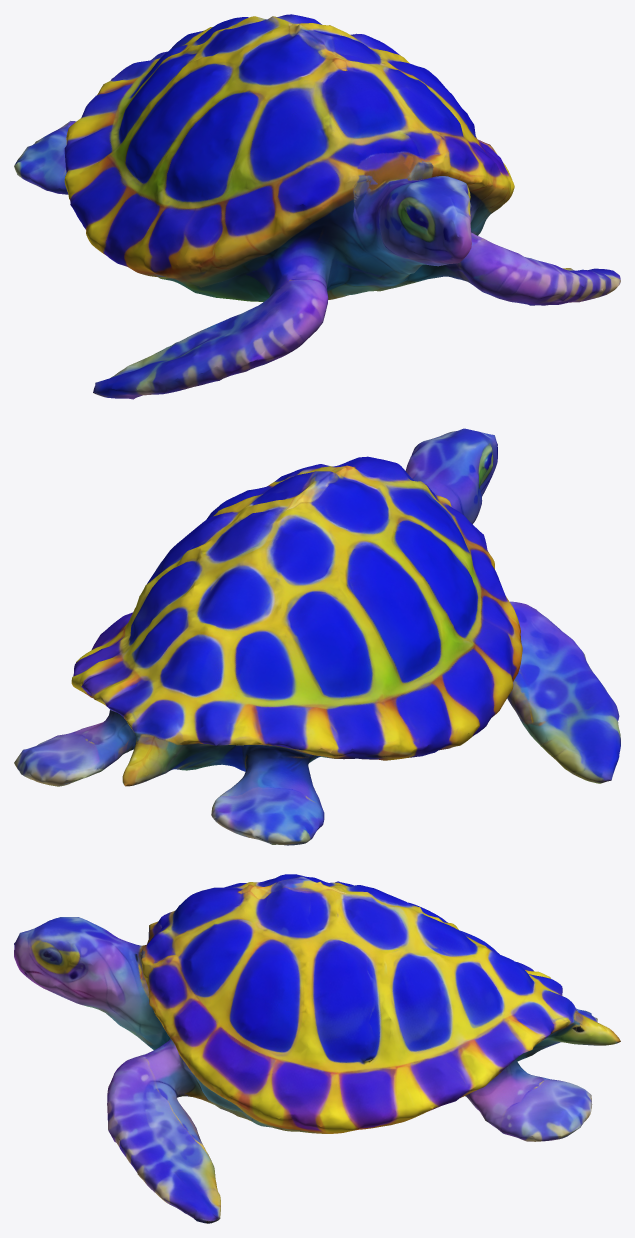
Rendered from c78d4c97-35c0-4e7b-8dff-67a2288551bf.glb.
The picture shows the model from 3 angles, top to bottom: view 1: azimuth 30°, elevation 25°; view 2: azimuth 150°, elevation 25°; view 3: azimuth 270°, elevation 25°; orthographic projection. The views are drawn at different scales.
Bounding box in the file's own units: 1.01 × 0.5275 × 1.2.
1 material, 1 textured.
